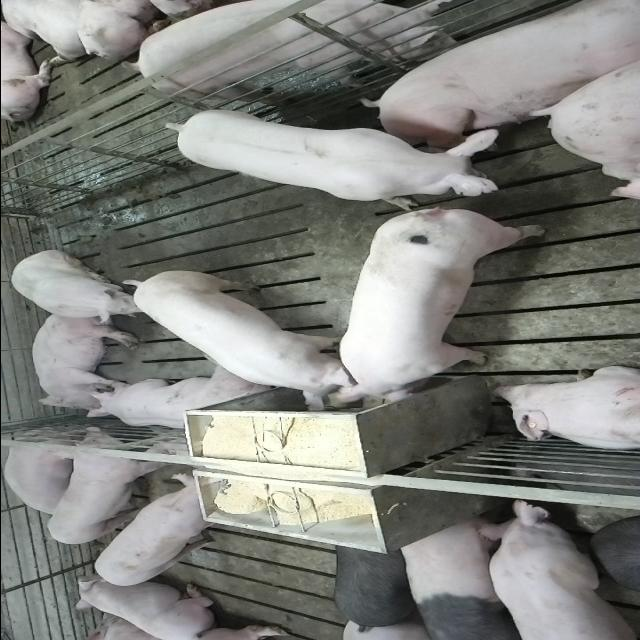Feeding: (337, 205, 548, 408), (117, 266, 360, 408)
Lateral_lying: (360, 4, 636, 158), (29, 312, 139, 412)
Sitting: (6, 249, 156, 325)
Standing: (121, 0, 465, 105), (158, 106, 512, 206), (475, 499, 640, 639), (397, 513, 533, 638), (92, 474, 237, 588), (42, 424, 168, 546), (331, 534, 425, 632)
Sternal_lying: (490, 365, 640, 452), (84, 369, 270, 433), (72, 580, 222, 638), (3, 432, 88, 516)
